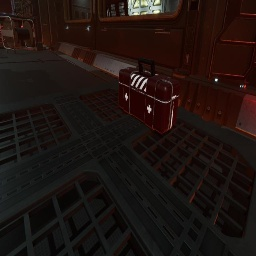FirstAidBox ,: (119, 57, 180, 134)
